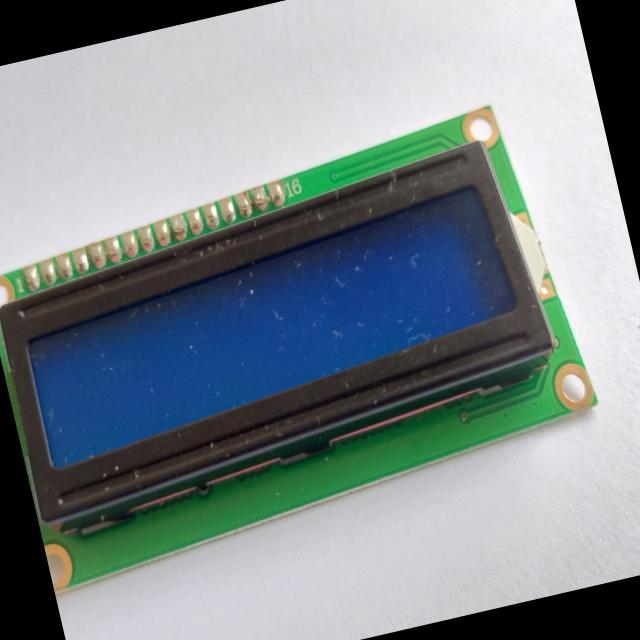lcd: (0, 95, 612, 594)
